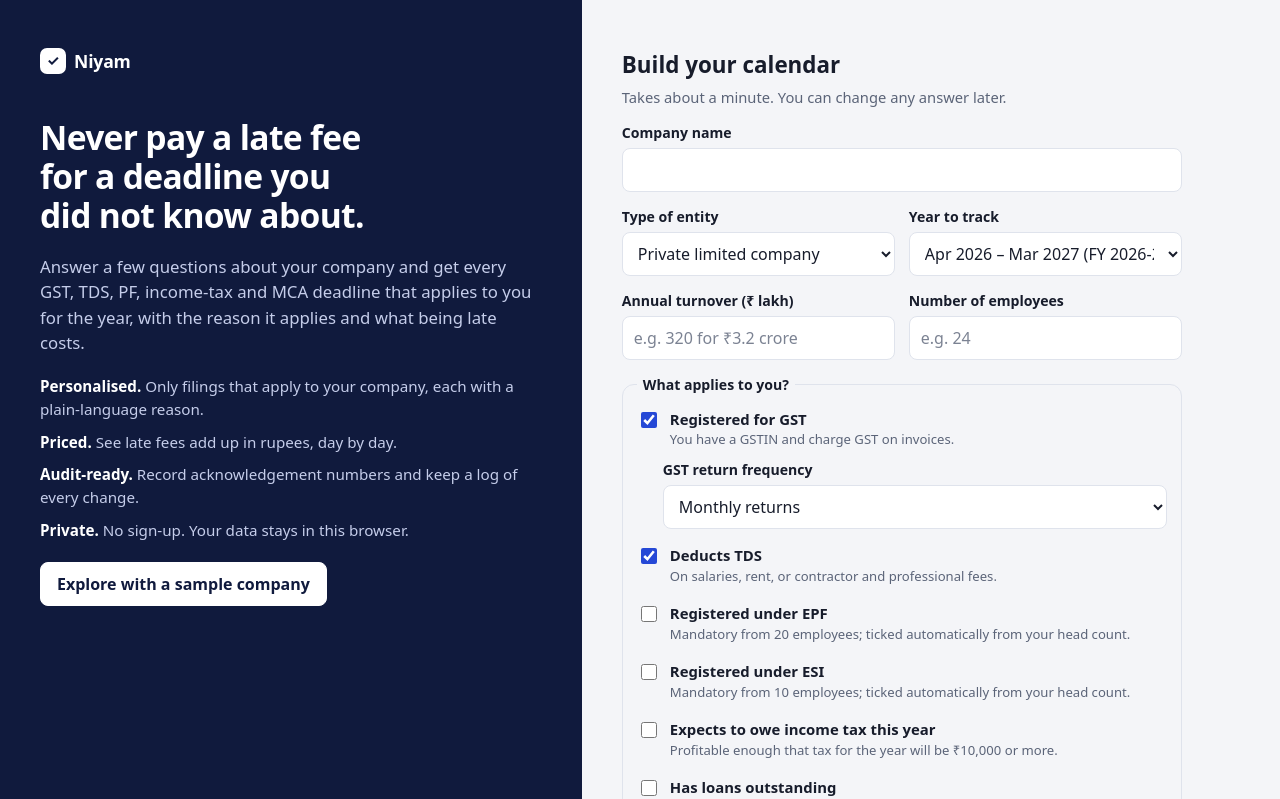
Test: onboarding › ticks PF and ESI automatically from the head count
The width and height of the screenshot is (1280, 799).
Type "12" into the number field labelled "Number of employees" at x=1045, y=338, box [909,316,1182,360]
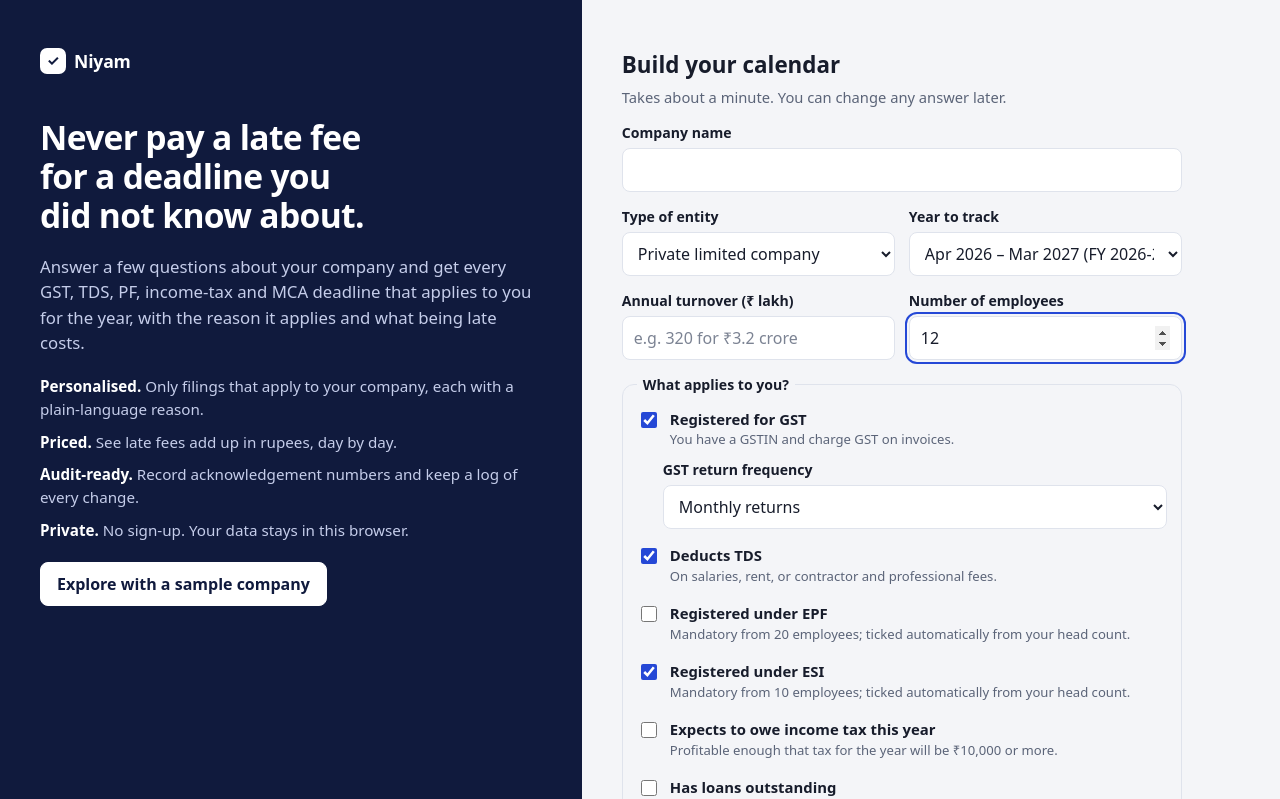
Expected: the checkbox labelled "Registered under EPF" is not checked, [641,606,657,622]
Expected: the checkbox labelled "Registered under ESI" is checked, [641,664,657,680]
Replace the text in the number field labelled "Number of employees" with "20" at x=1045, y=338, box [909,316,1182,360]
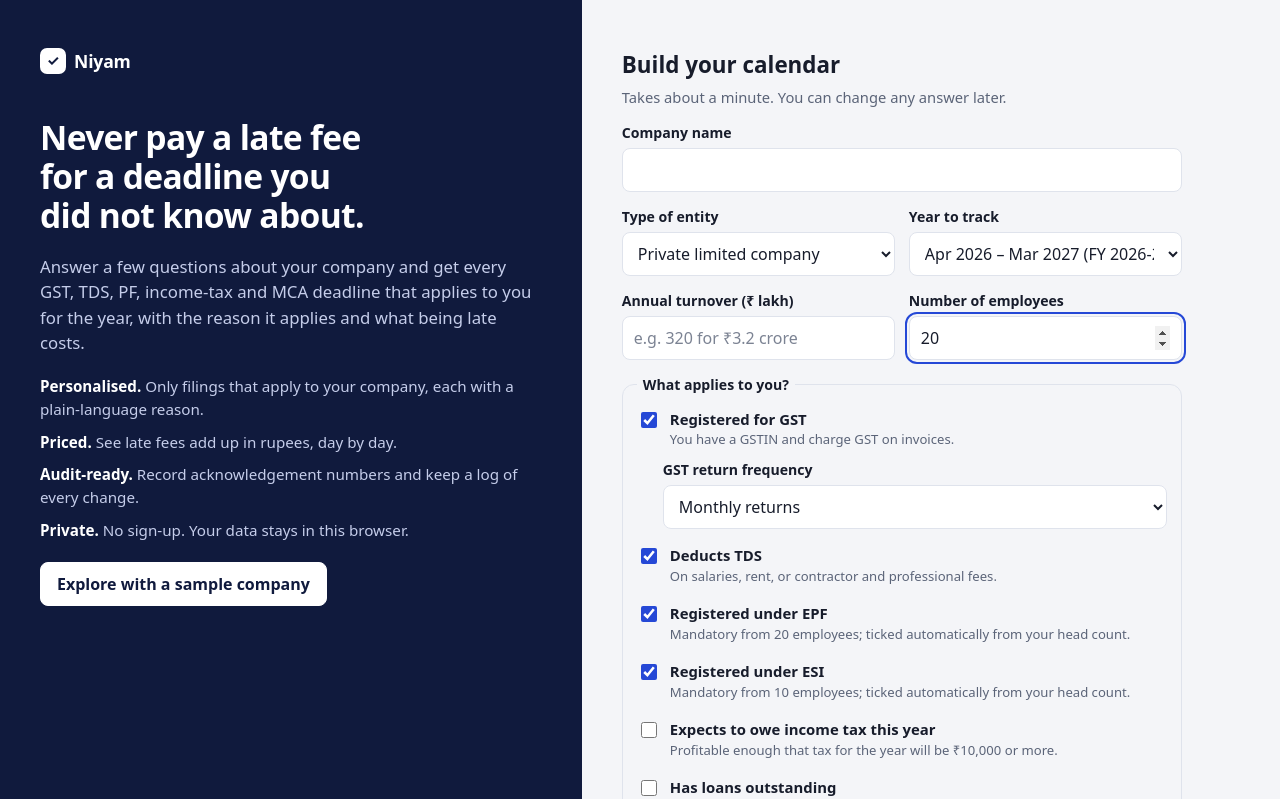
Expected: the checkbox labelled "Registered under EPF" is checked, [641,606,657,622]
